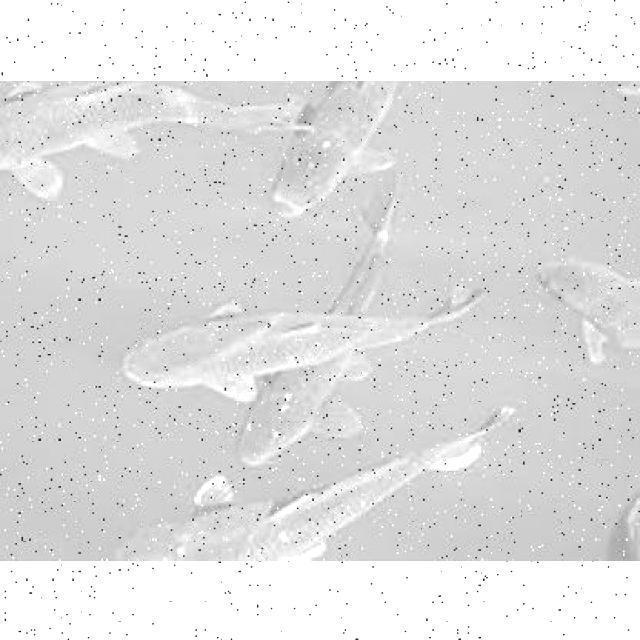ikan-mas: (102, 423, 504, 559), (119, 292, 488, 376)
